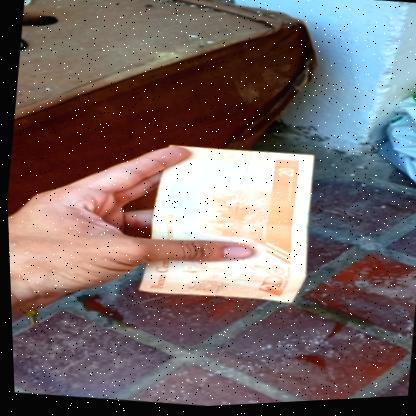twenty-back-vef: (130, 137, 318, 314)
